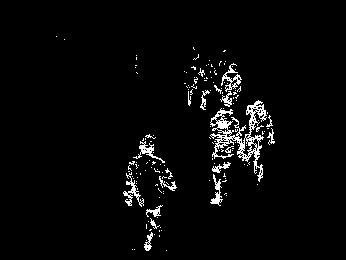person: (125, 133, 177, 252), (207, 102, 241, 206), (238, 99, 275, 182), (220, 61, 243, 110), (199, 63, 217, 110), (182, 66, 200, 105)
